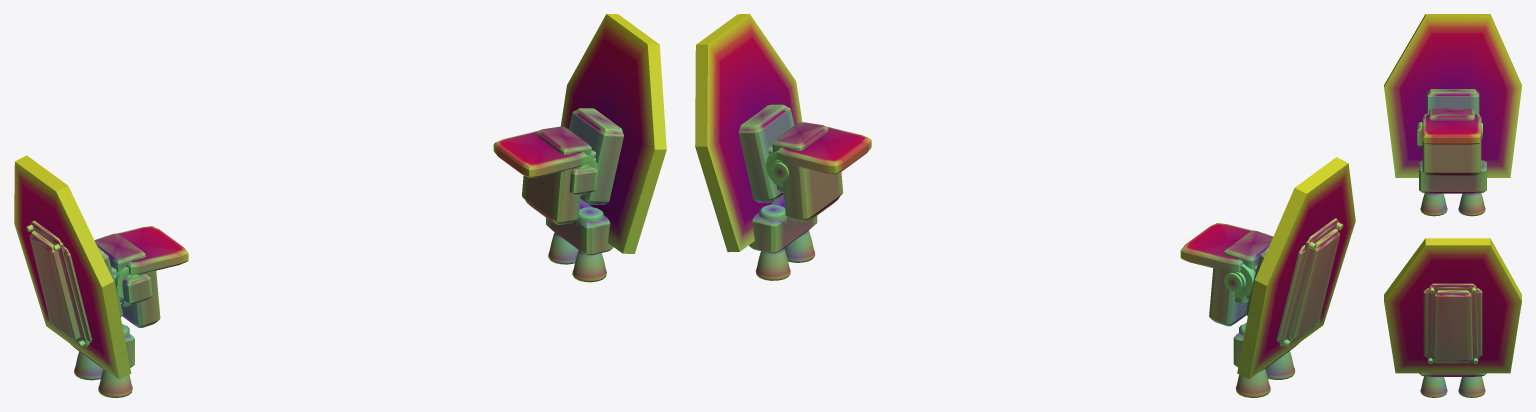
Rendered from llm_gen_shoulder_pods_058_424415.glb.
The picture shows the model from 3 angles, left to right: view 1: azimuth 30°, elevation 25°; view 2: azimuth 150°, elevation 25°; view 3: azimuth 270°, elevation 25°; orthographic projection. The views are drawn at different scales.
Visible parts, largest first — view 1: binder_shield_wing_2_wing_white_r, binder_shield_wing_2_wing_white_l, adapter_shoulder_yoke_r, binder_trim_blue_4_titanium_silver_l, adapter_shoulder_yoke_l, adapter_sub_wing_clevis_dark_1_adapter_dark_r, adapter_sub_exhaust_pod_dark_5_adapter_dark_r, adapter_sh_top_collar_dark_9_adapter_dark_l, adapter_sh_top_collar_dark_9_adapter_dark_r, binder_vernier_b_7_vernier_bell_vernier_r, adapter_sh_front_latch_dark_8_adapter_dark_l, binder_vernier_b_7_vernier_bell_vernier_l (+3 smaller); view 2: binder_shield_wing_2_wing_white_r, binder_shield_wing_2_wing_white_l, adapter_shoulder_yoke_r, adapter_shoulder_yoke_l, binder_trim_blue_4_titanium_silver_l, adapter_sub_wing_clevis_dark_1_adapter_dark_r, adapter_sub_exhaust_pod_dark_5_adapter_dark_r, adapter_sh_top_collar_dark_9_adapter_dark_l, adapter_sh_top_collar_dark_9_adapter_dark_r, binder_vernier_a_6_vernier_bell_vernier_r, binder_vernier_a_6_vernier_bell_vernier_l, binder_vernier_b_7_vernier_bell_vernier_r (+2 smaller); view 3: binder_shield_wing_2_wing_white_l, binder_shield_wing_2_wing_white_r, binder_trim_blue_4_titanium_silver_r, adapter_shoulder_yoke_l, adapter_sub_exhaust_pod_dark_5_adapter_dark_l, adapter_sub_wing_clevis_dark_1_adapter_dark_l, adapter_sub_trim_clamp_dark_3_adapter_dark_r, adapter_sh_top_collar_dark_9_adapter_dark_l, binder_vernier_a_6_vernier_bell_vernier_l, binder_vernier_b_7_vernier_bell_vernier_l, binder_vernier_a_6_vernier_bell_vernier_r, binder_vernier_b_7_vernier_bell_vernier_r (+2 smaller).
Boxes of the visible parts, x1=… form: binder_shield_wing_2_wing_white_r: x1=560, y1=14, x2=666, y2=253; binder_shield_wing_2_wing_white_l: x1=14, y1=155, x2=131, y2=379; adapter_shoulder_yoke_r: x1=493, y1=131, x2=598, y2=224; binder_trim_blue_4_titanium_silver_l: x1=26, y1=220, x2=89, y2=347; adapter_shoulder_yoke_l: x1=104, y1=226, x2=188, y2=327; adapter_sub_wing_clevis_dark_1_adapter_dark_r: x1=568, y1=108, x2=623, y2=204; adapter_sub_exhaust_pod_dark_5_adapter_dark_r: x1=546, y1=199, x2=613, y2=255; adapter_sh_top_collar_dark_9_adapter_dark_l: x1=94, y1=233, x2=145, y2=271; adapter_sh_top_collar_dark_9_adapter_dark_r: x1=536, y1=126, x2=591, y2=156; binder_vernier_b_7_vernier_bell_vernier_r: x1=572, y1=250, x2=606, y2=282; adapter_sh_front_latch_dark_8_adapter_dark_l: x1=121, y1=274, x2=152, y2=304; binder_vernier_b_7_vernier_bell_vernier_l: x1=98, y1=369, x2=132, y2=397; binder_shield_wing_2_wing_white_r: x1=695, y1=14, x2=802, y2=252; binder_shield_wing_2_wing_white_l: x1=1237, y1=157, x2=1355, y2=379; adapter_shoulder_yoke_r: x1=765, y1=126, x2=871, y2=221; adapter_shoulder_yoke_l: x1=1180, y1=223, x2=1255, y2=326; binder_trim_blue_4_titanium_silver_l: x1=1279, y1=218, x2=1343, y2=346; adapter_sub_wing_clevis_dark_1_adapter_dark_r: x1=738, y1=104, x2=794, y2=202; adapter_sub_exhaust_pod_dark_5_adapter_dark_r: x1=749, y1=196, x2=817, y2=253; adapter_sh_top_collar_dark_9_adapter_dark_l: x1=1224, y1=230, x2=1273, y2=269; adapter_sh_top_collar_dark_9_adapter_dark_r: x1=772, y1=122, x2=828, y2=152; binder_vernier_a_6_vernier_bell_vernier_r: x1=755, y1=248, x2=790, y2=280; binder_vernier_a_6_vernier_bell_vernier_l: x1=1235, y1=369, x2=1270, y2=397; binder_vernier_b_7_vernier_bell_vernier_r: x1=784, y1=230, x2=815, y2=262; binder_shield_wing_2_wing_white_l: x1=1384, y1=14, x2=1521, y2=177; binder_shield_wing_2_wing_white_r: x1=1384, y1=238, x2=1521, y2=373; binder_trim_blue_4_titanium_silver_r: x1=1427, y1=283, x2=1478, y2=363; adapter_shoulder_yoke_l: x1=1422, y1=113, x2=1481, y2=176; adapter_sub_exhaust_pod_dark_5_adapter_dark_l: x1=1419, y1=160, x2=1486, y2=193; adapter_sub_wing_clevis_dark_1_adapter_dark_l: x1=1426, y1=89, x2=1479, y2=113; adapter_sub_trim_clamp_dark_3_adapter_dark_r: x1=1423, y1=288, x2=1482, y2=357; adapter_sh_top_collar_dark_9_adapter_dark_l: x1=1429, y1=108, x2=1474, y2=120; binder_vernier_a_6_vernier_bell_vernier_l: x1=1458, y1=193, x2=1485, y2=216; binder_vernier_b_7_vernier_bell_vernier_l: x1=1420, y1=193, x2=1447, y2=216; binder_vernier_a_6_vernier_bell_vernier_r: x1=1458, y1=376, x2=1485, y2=397; binder_vernier_b_7_vernier_bell_vernier_r: x1=1420, y1=376, x2=1447, y2=397.
Size of the model in its own units: 119 by 41.96 by 30.08.
